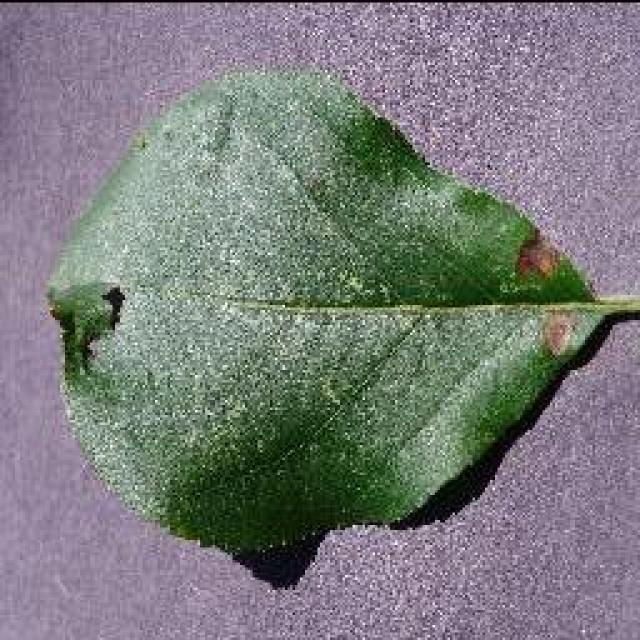black_rot: (496, 218, 585, 365)
